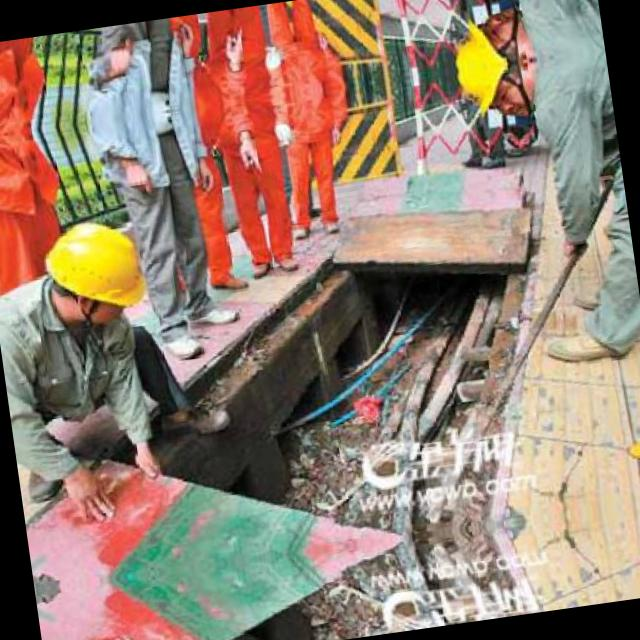helmet: (26, 206, 156, 340), (456, 60, 536, 124), (448, 5, 528, 69)
